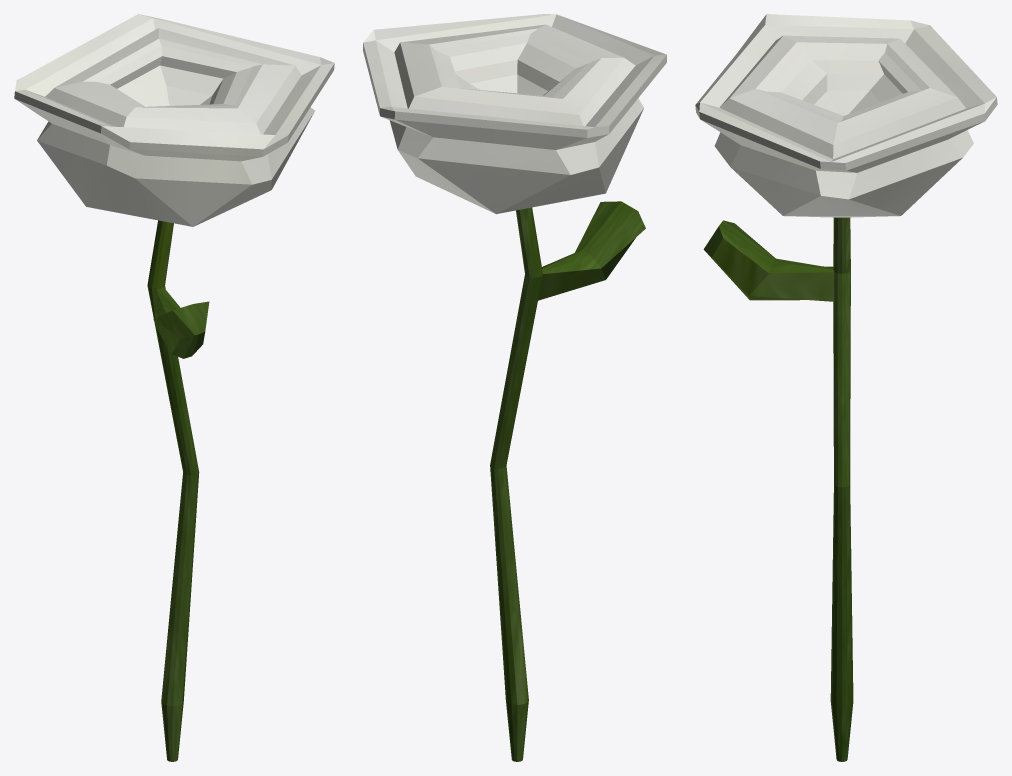
File: white_rose.fbx
3 views of the same model, side by side, from view 1: azimuth 30°, elevation 25°; view 2: azimuth 150°, elevation 25°; view 3: azimuth 270°, elevation 25° (orthographic). The views are drawn at different scales.
Parts seen in each view (by area): view 1: Cylinder; view 2: Cylinder; view 3: Cylinder.
Part boxes in pixels (x1=…): Cylinder: x1=14, y1=14, x2=334, y2=761; Cylinder: x1=363, y1=14, x2=666, y2=761; Cylinder: x1=695, y1=14, x2=997, y2=761.
Size of the model in its own units: 54.85 by 131 by 51.84.
